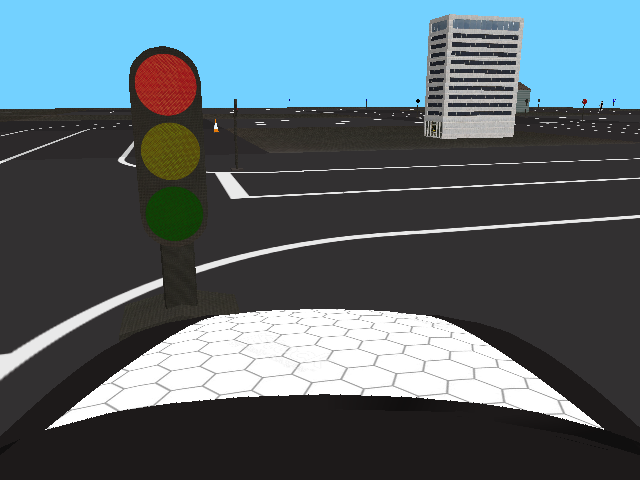red_light: (129, 46, 209, 249)
